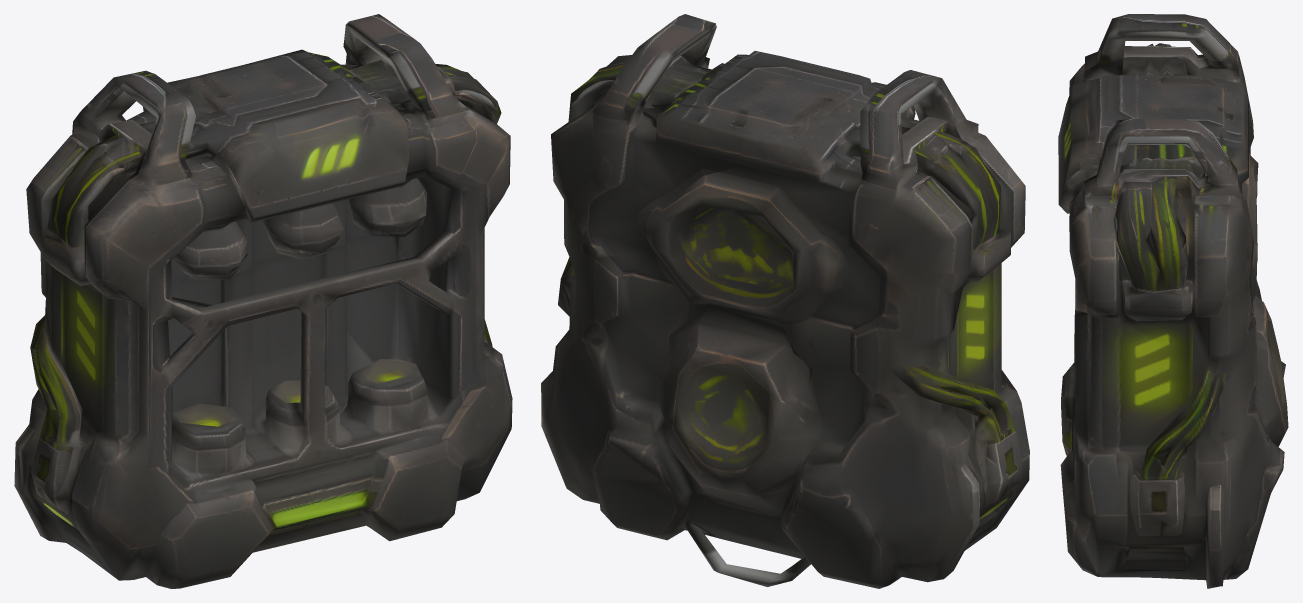
The model's file is tripo_convert_a207f452-c38b-4383-aaad-925b06c94237.fbx.
The picture shows the model from 3 angles, left to right: view 1: azimuth 30°, elevation 25°; view 2: azimuth 150°, elevation 25°; view 3: azimuth 270°, elevation 25°; orthographic projection. The views are drawn at different scales.
Parts seen in each view (by area): view 1: tripo_node_a207f452; view 2: tripo_node_a207f452; view 3: tripo_node_a207f452.
Boxes of the visible parts, x1,y1,x2,y2 form: tripo_node_a207f452: [14, 14, 512, 588]; tripo_node_a207f452: [541, 14, 1029, 588]; tripo_node_a207f452: [1058, 14, 1288, 588].
Bounding box in the file's own units: 0.1399 × 0.15 × 0.0667.
1 material, 1 textured.
